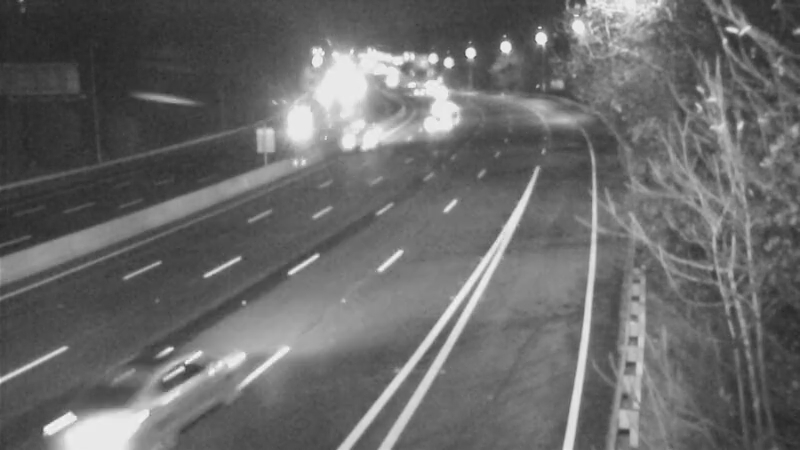vehicle: (62, 357, 172, 450), (417, 82, 467, 132), (410, 94, 460, 144), (345, 110, 395, 160), (271, 100, 321, 150)
